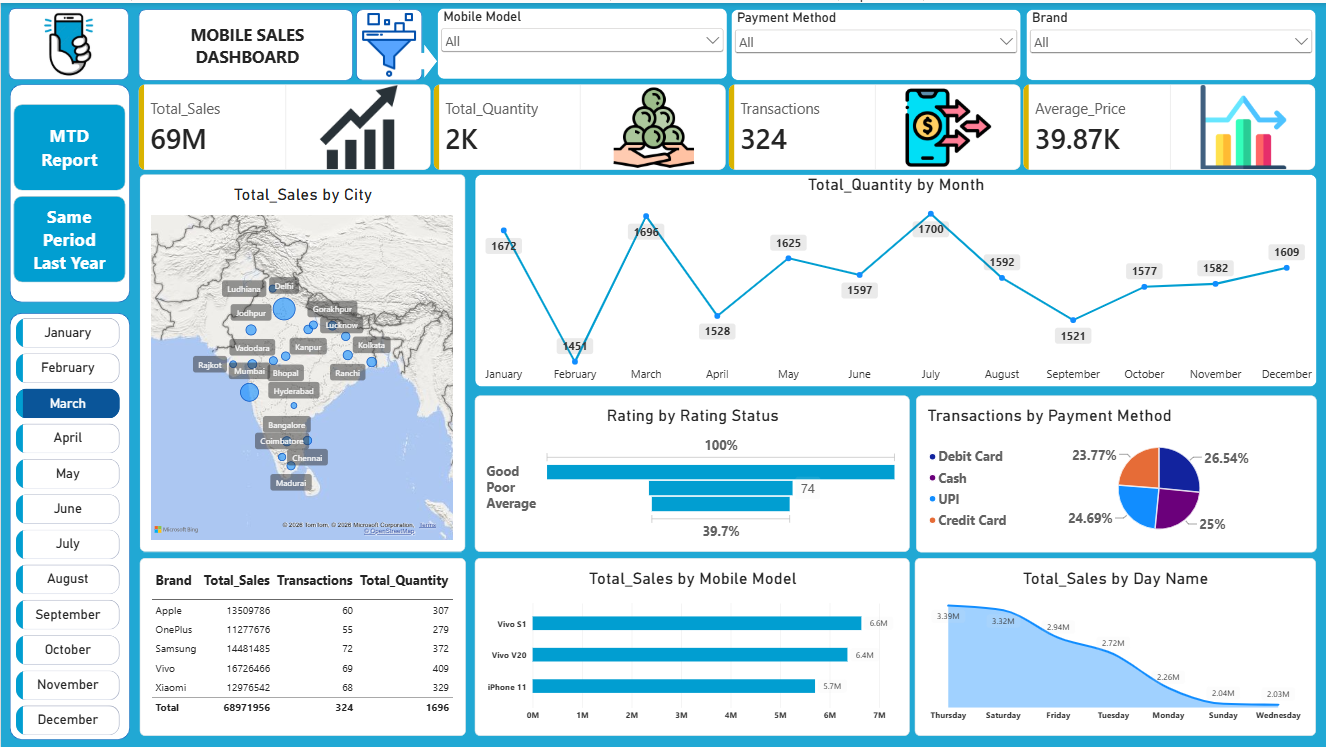

What the dashboard file says about the page in this screenshot:
{"tool":"powerbi","page":{"name":"Dashboard","canvas":[1920,1080],"ordinal":0},"visuals":[{"type":"shape","box":[10,8,174,104],"z":0},{"type":"image","box":[10.9,0,174,118],"z":1000},{"type":"shape","box":[12,118,174,316],"z":2000},{"type":"shape","box":[12,448,174,618],"z":3000},{"type":"advancedSlicerVisual","fields":{"Values":["Custom_Calendar.Date.Variation.Date Hierarchy.Month"]},"box":[22,456,150,604],"z":4000},{"type":"shape","box":[198.9,8.9,310.6,103.3],"z":5000},{"type":"cardVisual","fields":{"Data":["Sales_Data.Total_Sales","Sales_Data.Total_Quantity","Sales_Data.Transactions","Sales_Data.Average_Price"]},"box":[199.1,117.6,1704.7,124.9],"z":6000},{"type":"slicer","fields":{"Values":["Sales_Data.Mobile Model"]},"box":[631.6,7.2,419.8,103.2],"z":7000},{"type":"slicer","fields":{"Values":["Sales_Data.Payment Method"]},"box":[1056.9,8.8,419.8,103.2],"z":8000},{"type":"slicer","fields":{"Values":["Sales_Data.Brand"]},"box":[1484.4,9.4,419.8,103.2],"z":9000},{"type":"shape","box":[513.9,9,95.9,103.2],"z":10000},{"type":"image","box":[513.9,9,95.9,103.2],"z":11000},{"type":"shape","box":[593.6,59.7,38,48.9],"z":12000},{"type":"textbox","box":[219,29,275.1,79.6],"z":13000},{"type":"map","title":"Total_Sales by City","fields":{"Category":["Sales_Data.City"],"Size":["Sales_Data.Total_Sales"]},"box":[200,248,471.3,546],"z":14000},{"type":"lineChart","title":"Total_Quantity by Month","fields":{"Category":["Custom_Calendar.Date.Variation.Date Hierarchy.Month"],"Y":["Sales_Data.Total_Quantity"]},"box":[685.6,247.8,1218.9,307.8],"z":15000},{"type":"funnel","title":"Rating by Rating Status","fields":{"Category":["Sales_Data.Rating Status"],"Y":["CountNonNull(Sales_Data.Customer Ratings)"]},"box":[685.4,568.1,629.8,226.4],"z":16000},{"type":"pieChart","title":"Transactions by Payment Method","fields":{"Category":["Sales_Data.Payment Method"],"Y":["Sales_Data.Transactions"]},"box":[1324,568,580,227],"z":17000},{"type":"clusteredBarChart","fields":{"Category":["Sales_Data.Mobile Model"],"Y":["Sales_Data.Total_Sales"]},"box":[685.4,802.7,629.8,257.3],"z":18000},{"type":"areaChart","fields":{"Category":["Custom_Calendar.Day Name"],"Y":["Sales_Data.Total_Sales"]},"box":[1323.5,802.7,580.4,257.3],"z":19000},{"type":"tableEx","fields":{"Values":["Sales_Data.Brand","Sales_Data.Total_Sales","Sales_Data.Transactions","Sales_Data.Total_Quantity"]},"box":[200,802.7,471.8,257.3],"z":20000},{"type":"pageNavigator","box":[18.5,146.1,162.6,259.3],"z":20001}]}

Visuals, with their boxes in screenshot pixels (x1, y1, x2, y2), scaled from the page's 1920x1080 canvas onto the 1326x747 screenshot:
shape: bbox=[7, 6, 127, 77]
image: bbox=[8, 0, 128, 82]
shape: bbox=[8, 82, 128, 300]
shape: bbox=[8, 310, 128, 737]
advancedSlicerVisual - Custom_Calendar.Date.Variation.Date Hierarchy.Month: bbox=[15, 315, 119, 733]
shape: bbox=[137, 6, 352, 78]
cardVisual - Sales_Data.Total_Sales x Sales_Data.Total_Quantity: bbox=[138, 81, 1315, 168]
slicer - Sales_Data.Mobile Model: bbox=[436, 5, 726, 76]
slicer - Sales_Data.Payment Method: bbox=[730, 6, 1020, 77]
slicer - Sales_Data.Brand: bbox=[1025, 7, 1315, 78]
shape: bbox=[355, 6, 421, 78]
image: bbox=[355, 6, 421, 78]
shape: bbox=[410, 41, 436, 75]
textbox: bbox=[151, 20, 341, 75]
"Total_Sales by City" map: bbox=[138, 172, 464, 549]
"Total_Quantity by Month" lineChart: bbox=[473, 171, 1315, 384]
"Rating by Rating Status" funnel: bbox=[473, 393, 908, 550]
"Transactions by Payment Method" pieChart: bbox=[914, 393, 1315, 550]
clusteredBarChart - Sales_Data.Mobile Model x Sales_Data.Total_Sales: bbox=[473, 555, 908, 733]
areaChart - Custom_Calendar.Day Name x Sales_Data.Total_Sales: bbox=[914, 555, 1315, 733]
tableEx - Sales_Data.Brand x Sales_Data.Total_Sales: bbox=[138, 555, 464, 733]
pageNavigator: bbox=[13, 101, 125, 280]
